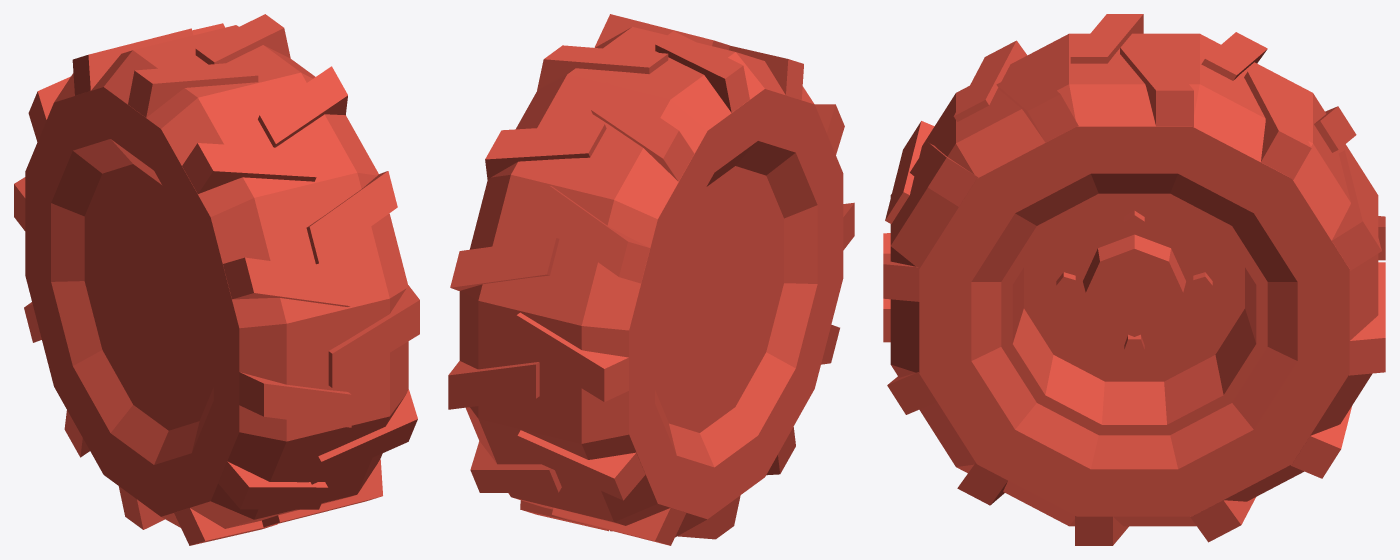
Rendered from SM_Telehandler_Wheel_BL.fbx.
3 views of the same model, side by side, from view 1: azimuth 30°, elevation 25°; view 2: azimuth 150°, elevation 25°; view 3: azimuth 270°, elevation 25° (orthographic).
Parts seen in each view (by area): view 1: SM_Telehandler_Wheel_BL; view 2: SM_Telehandler_Wheel_BL; view 3: SM_Telehandler_Wheel_BL.
Boxes of the visible parts, <box> form: SM_Telehandler_Wheel_BL: <box>14,14,419,545</box>; SM_Telehandler_Wheel_BL: <box>448,14,854,545</box>; SM_Telehandler_Wheel_BL: <box>883,14,1385,545</box>.
Bounding box in the file's own units: 112 × 43.95 × 112.
